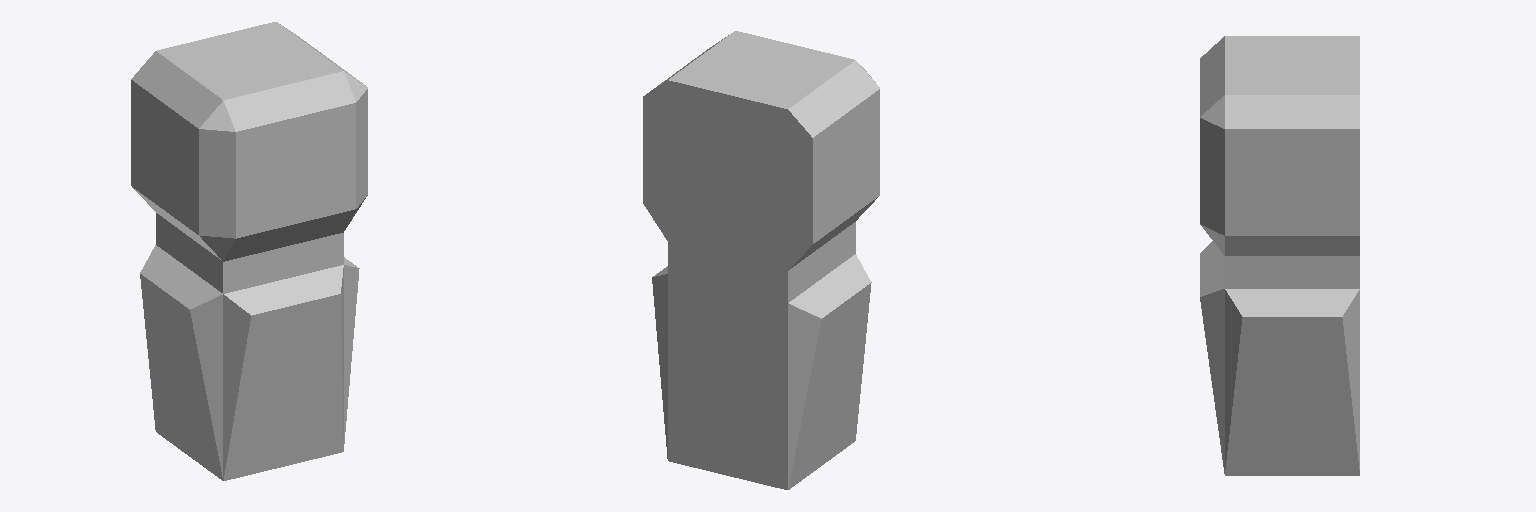
The model's file is custom_right_arm.obj.
3 views of the same model, side by side, from view 1: azimuth 30°, elevation 25°; view 2: azimuth 150°, elevation 25°; view 3: azimuth 270°, elevation 25° (orthographic).
Parts seen in each view (by area): view 1: Cube.000; view 2: Cube.000; view 3: Cube.000.
Part boxes in pixels (bbox=[...]): Cube.000: bbox=[131, 22, 367, 480]; Cube.000: bbox=[643, 31, 879, 489]; Cube.000: bbox=[1200, 36, 1359, 475].
Bounding box in the file's own units: 5.5 × 11.8 × 4.5.